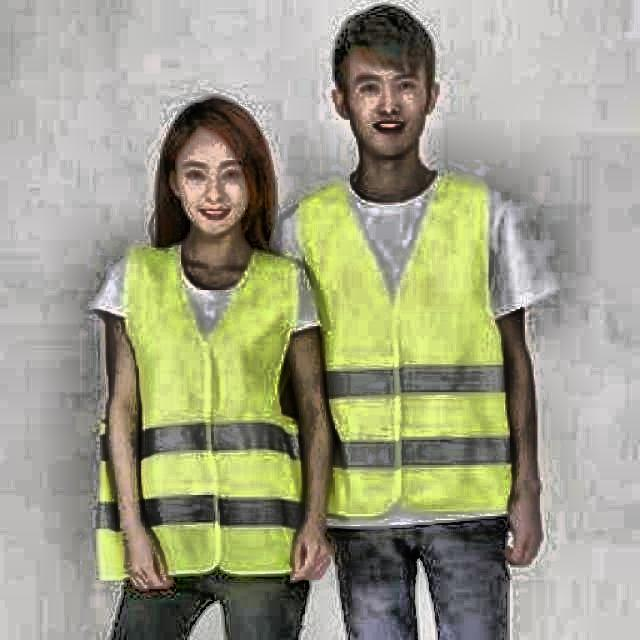safety_jacket: (300, 166, 514, 529), (95, 243, 318, 578)
